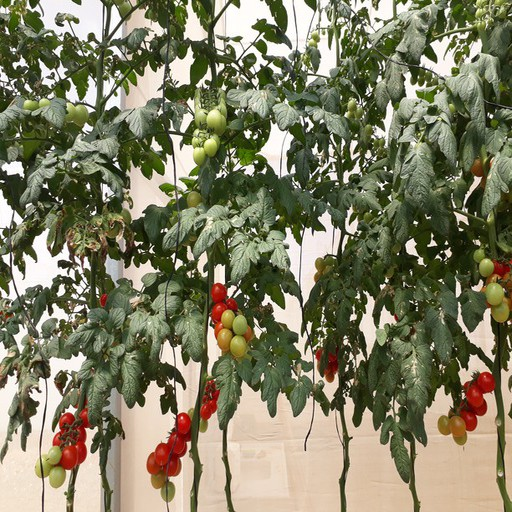green tomato bunch: (346, 100, 395, 160), (191, 86, 228, 165), (22, 97, 89, 127), (300, 25, 324, 71), (313, 254, 336, 287)
mixed tomato bunch: (463, 129, 512, 206), (468, 248, 512, 324), (209, 284, 252, 356)
red tomato bunch: (437, 372, 495, 447), (58, 384, 103, 467), (148, 413, 199, 478), (201, 378, 231, 425), (317, 338, 345, 381)
